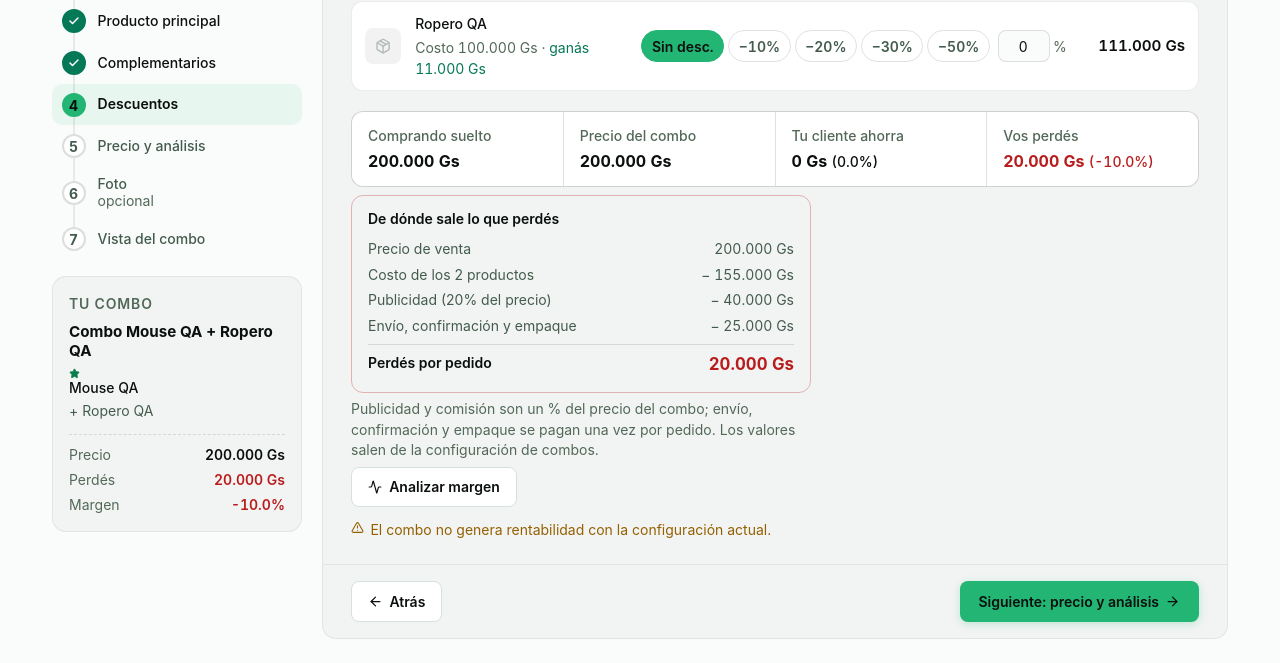
Scenario: Fase 4: de dónde sale la ganancia › abre el mismo análisis de sensibilidad de productos con los datos del combo
This screenshot has width=1280, height=663.
(page scrolled)
Step 1. Click the button "Analizar margen" → click(434, 487), box [351,467,517,507]
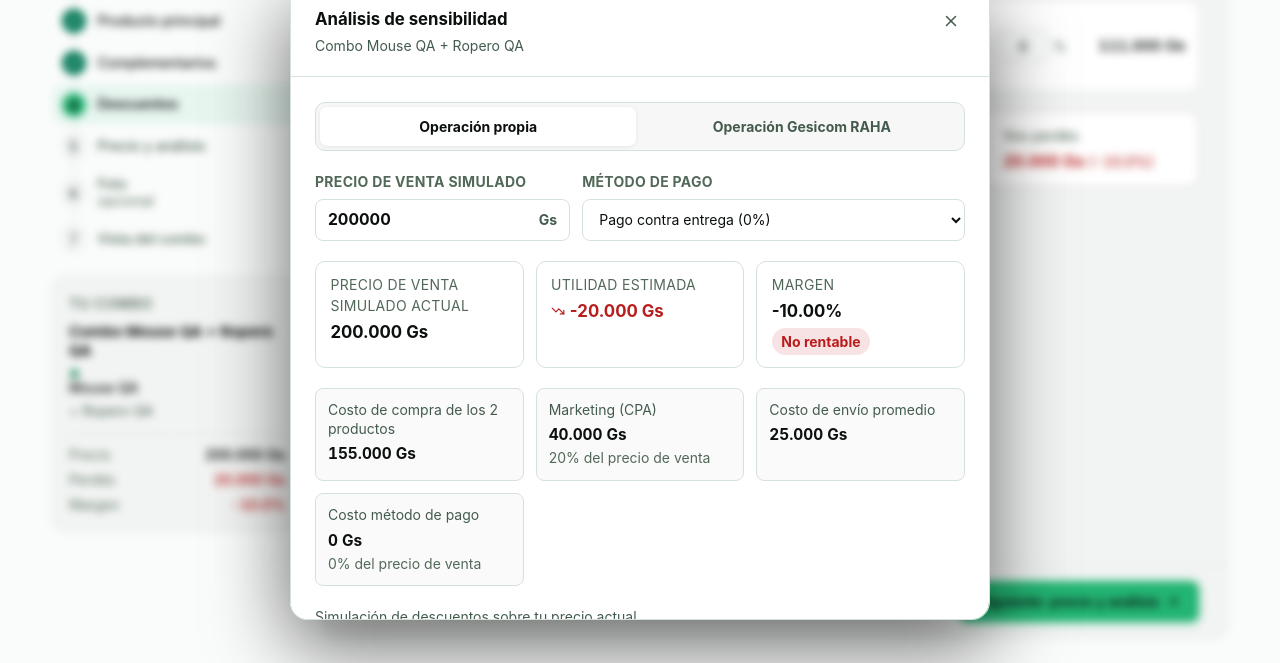
Expected: the text "155.000 Gs" is shown, [328,444,416,463]
Expected: the text "40.000 Gs" is shown, [549,426,627,444]
Expected: the element showing "-20.000 Gs" is shown, [551,300,664,320]
Step 2. Click the tab "Operación Gesicom RAHA" → click(802, 126), box [644,107,960,146]
(page scrolled)
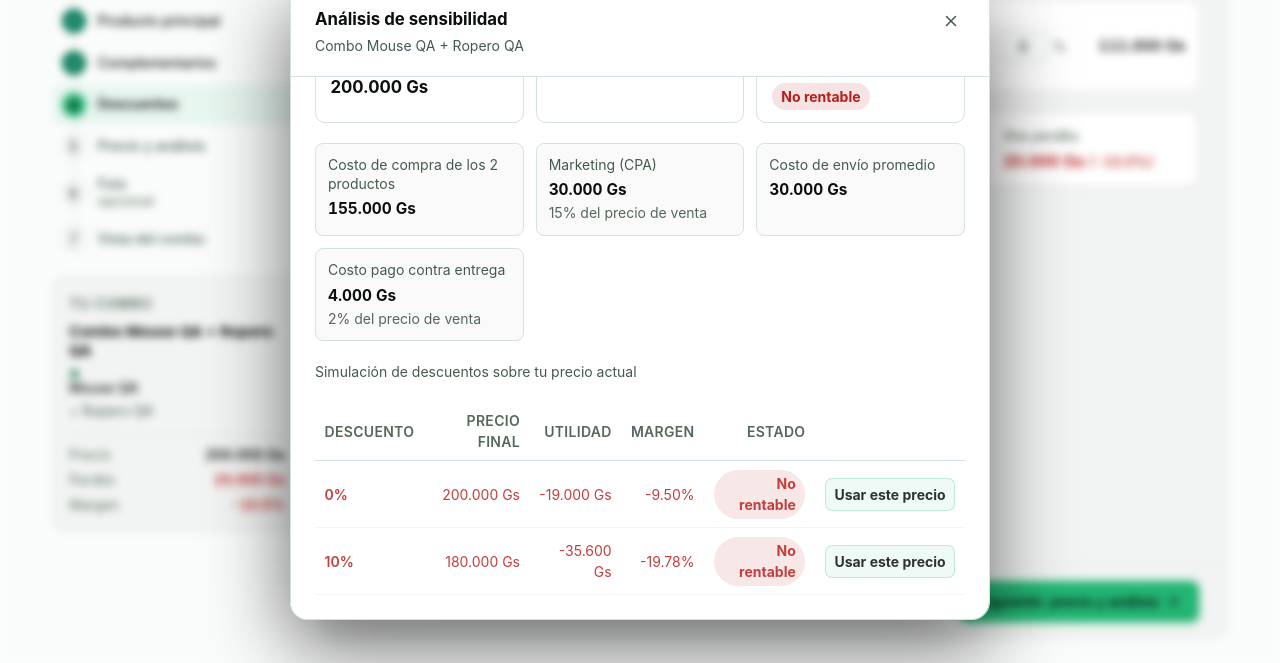
Expected: the element showing "-19.000 Gs" is shown, [551,56,660,76]
Expected: the text "30.000 Gs" below "Costo de envío promedio" is shown, [769,180,847,200]
Step 3. Click the 1st button "Usar este precio" → click(890, 494), box [825,478,955,511]
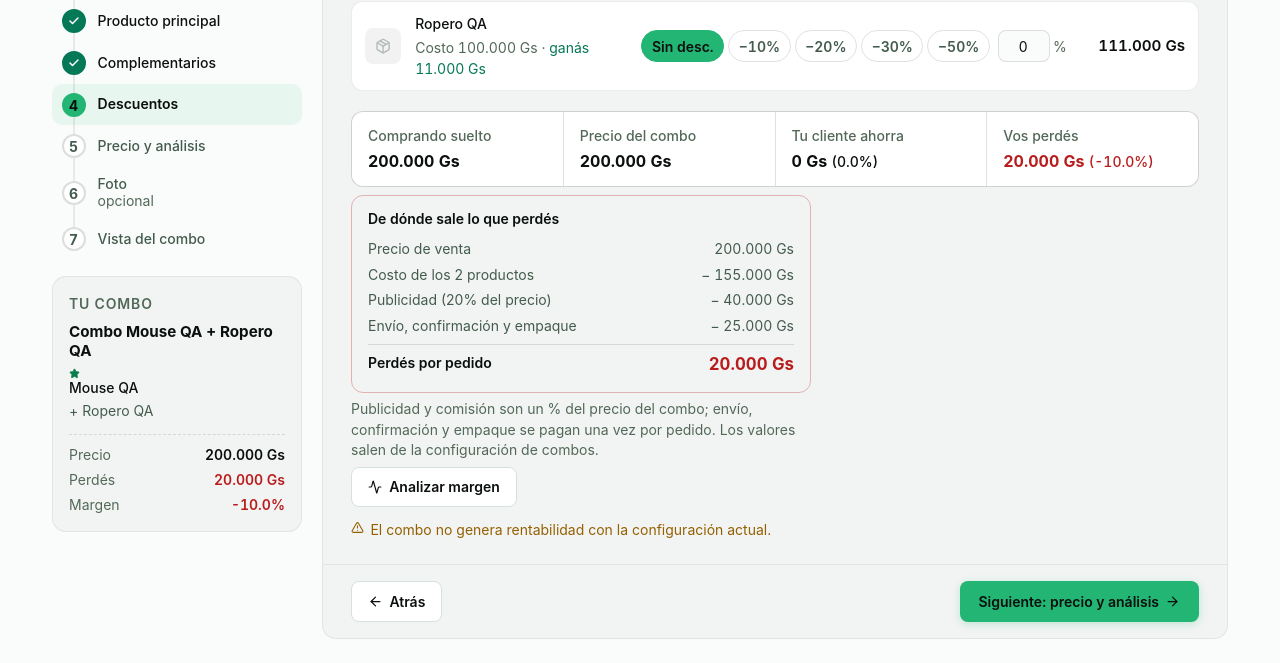
Expected: the heading "Análisis de sensibilidad" is gone
